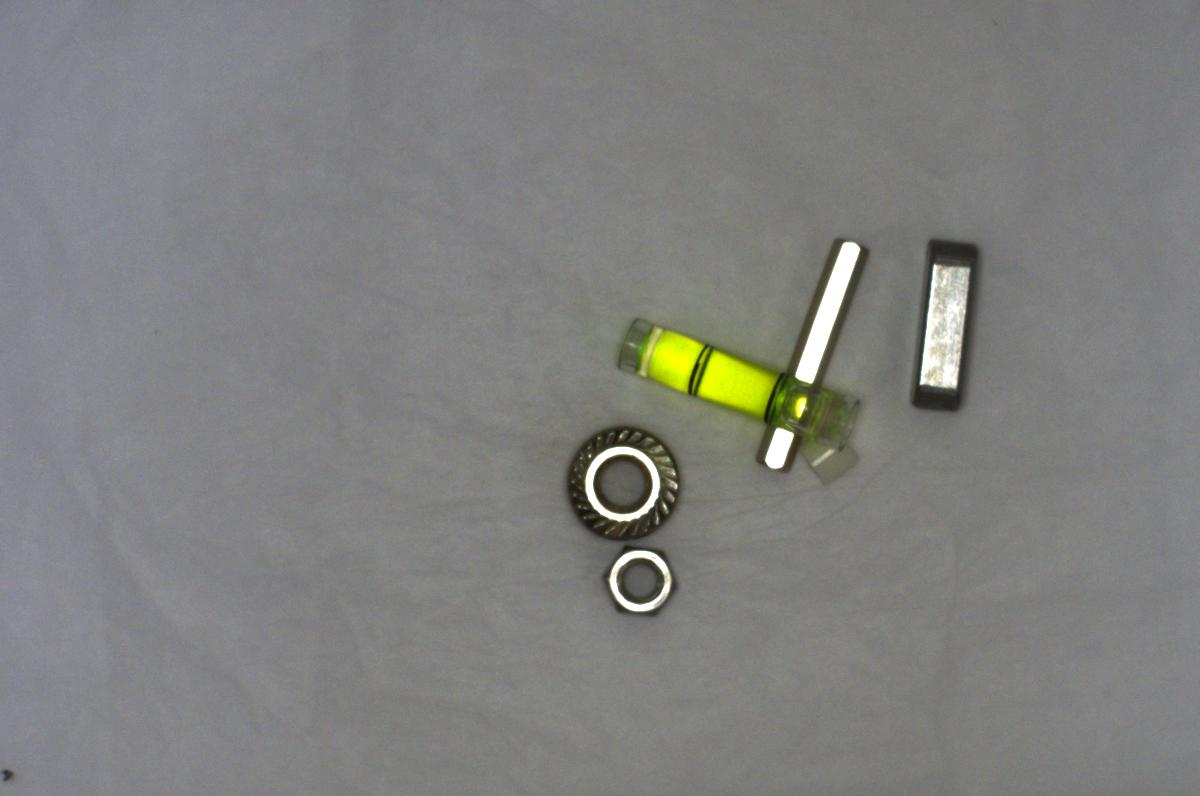Double hexagonal column: (730, 223, 867, 481)
Flange nut: (546, 417, 682, 533)
Hexagon nut: (588, 536, 684, 628)
Horizontal bubble: (607, 306, 867, 448)
Keybar: (907, 232, 980, 412)
Plastic cushion pillar: (803, 431, 862, 486)
